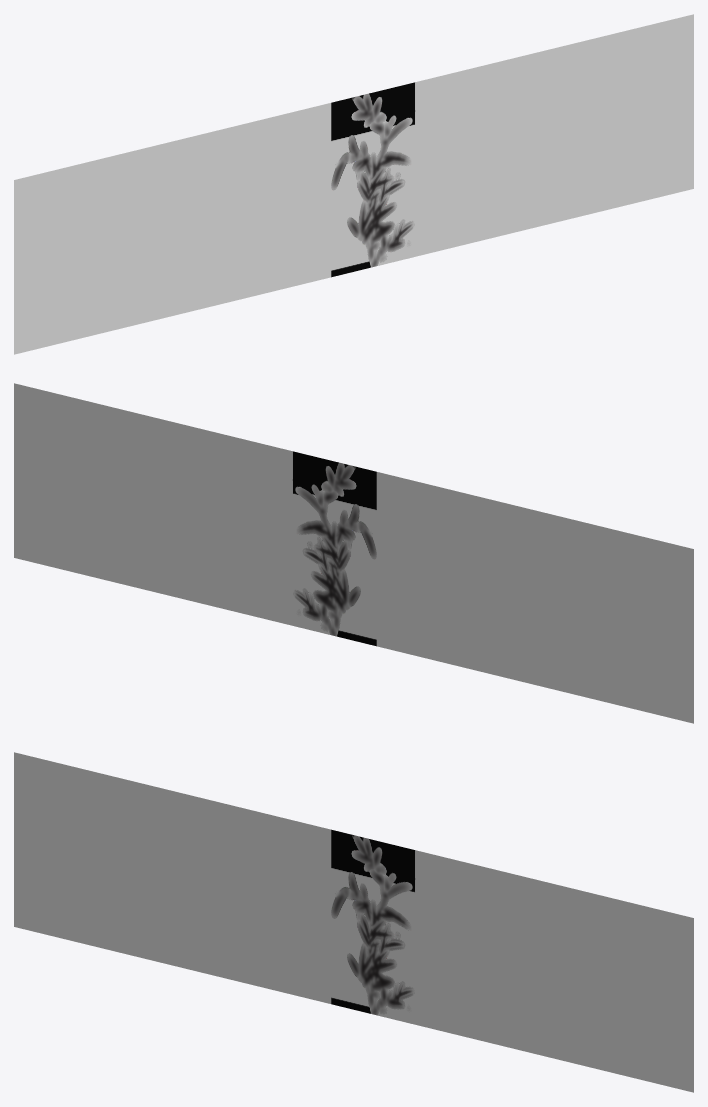
The model's file is Card-1w.fbx.
3 renders of one model, top to bottom at view 1: azimuth 30°, elevation 25°; view 2: azimuth 150°, elevation 25°; view 3: azimuth 330°, elevation 25°, orthographic.
Parts seen in each view (by area): view 1: Plane; view 2: Plane; view 3: Plane.
Part boxes in pixels (<box>): Plane: <box>14,14,693,354</box>; Plane: <box>14,383,693,723</box>; Plane: <box>14,752,693,1092</box>.
Bounding box in the file's own units: 3943 × 968 × 0.000231.
Materials: 1 (1 with a texture image).
